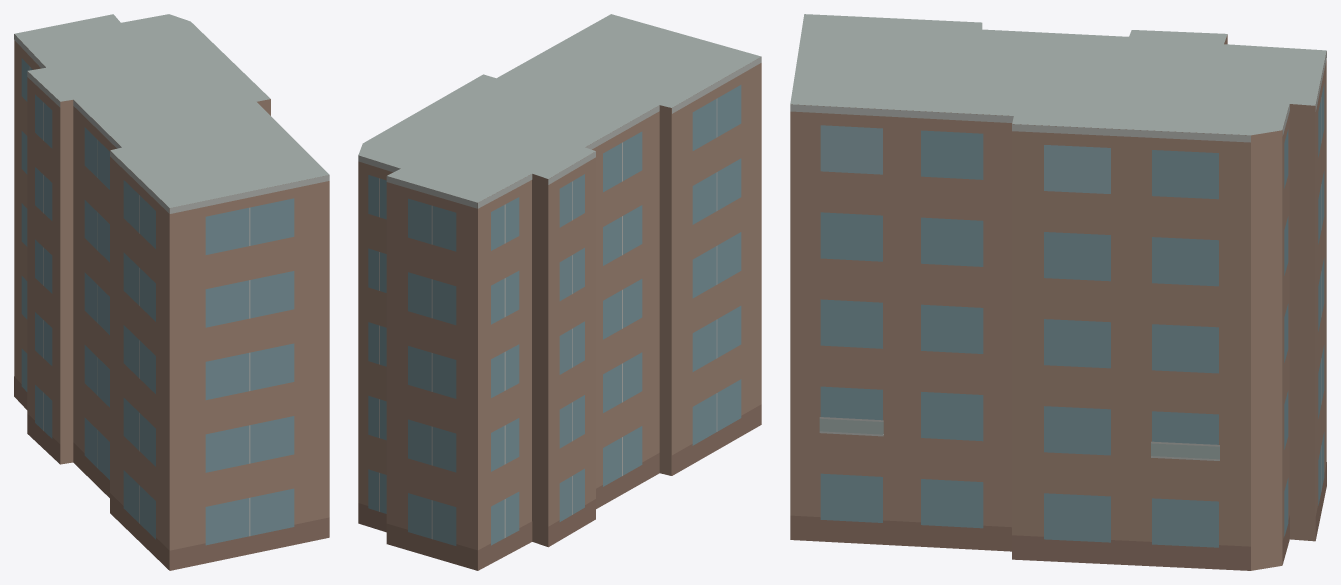
Rendered from survey-upis-32750278.glb.
The picture shows the model from 3 angles, left to right: view 1: azimuth 30°, elevation 25°; view 2: azimuth 150°, elevation 25°; view 3: azimuth 270°, elevation 25°; orthographic projection. The views are drawn at different scales.
Visible parts, largest first — view 1: survey-upis-32750278.tmp; view 2: survey-upis-32750278.tmp; view 3: survey-upis-32750278.tmp.
Boxes of the visible parts, x1=… form: survey-upis-32750278.tmp: x1=14, y1=14, x2=329, y2=570; survey-upis-32750278.tmp: x1=358, y1=14, x2=761, y2=570; survey-upis-32750278.tmp: x1=790, y1=14, x2=1326, y2=570.
Size of the model in its own units: 8.85 by 14.8 by 16.53.
